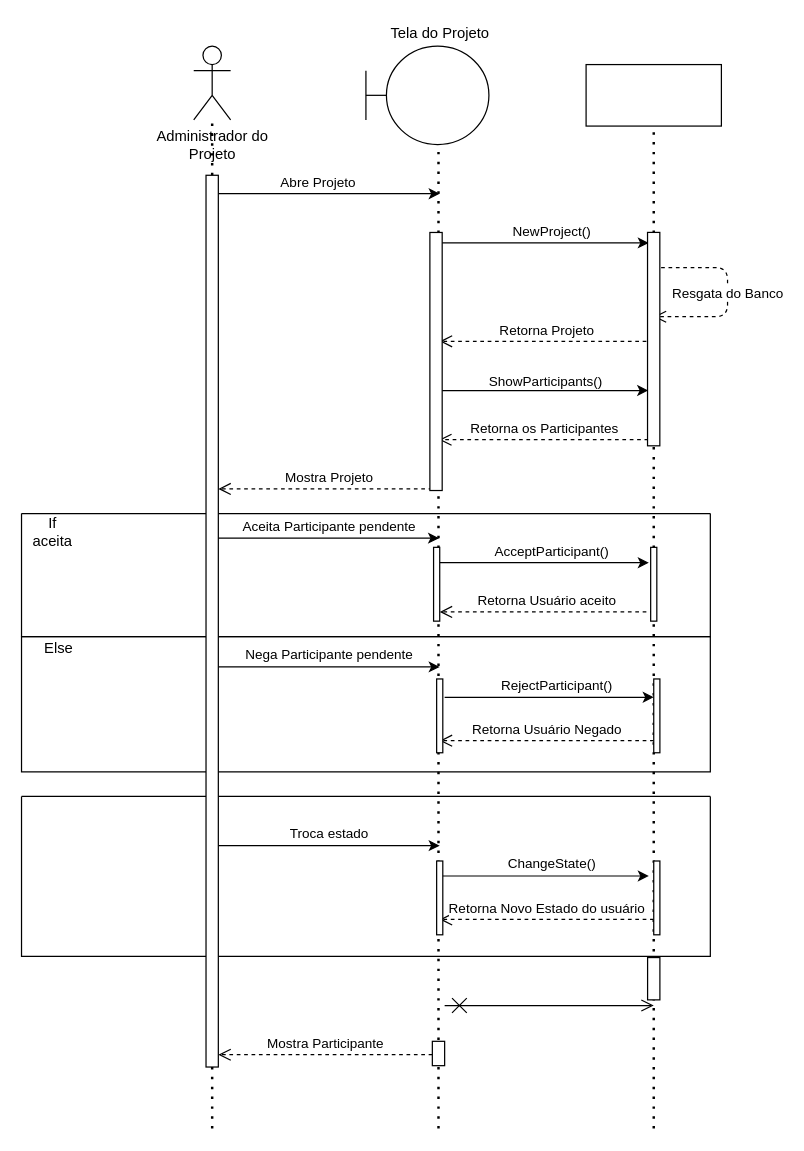
This 804x1151 diagram has some shape labels left out. Each missing label, with the box of its shape:
If Admin mudou de ideia: (20, 795, 710, 956)
Projeto: (585, 63, 721, 126)
